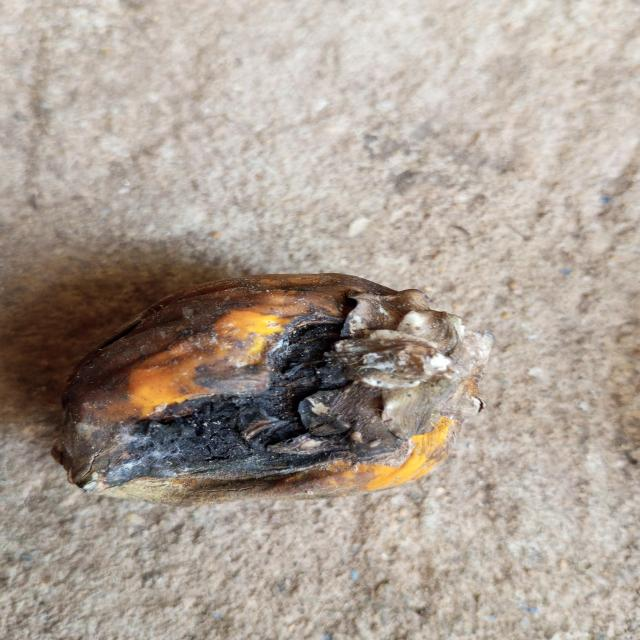damaged: (53, 274, 491, 504)
